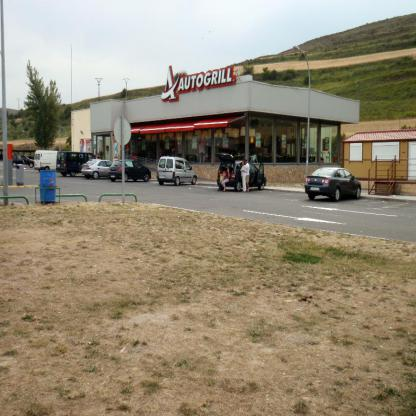Car: (306, 165, 362, 203), (216, 151, 266, 193), (160, 156, 199, 186), (108, 156, 152, 180), (82, 154, 112, 179)
